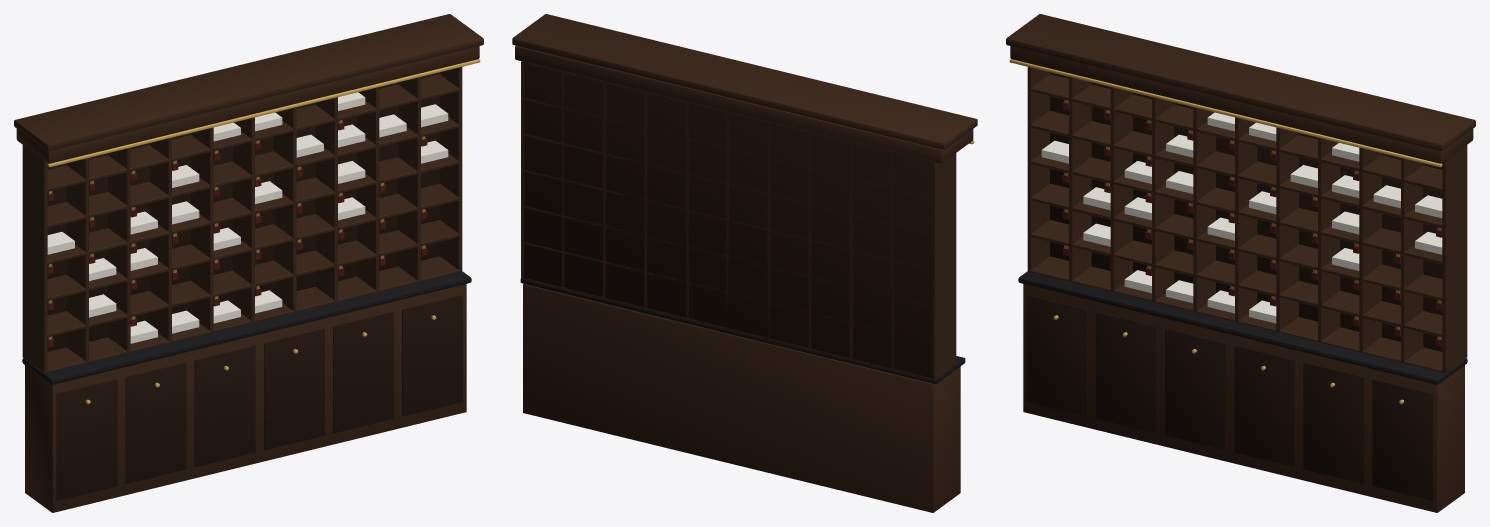
Rendered from key_cabinet.glb.
3 renders of one model, left to right at view 1: azimuth 30°, elevation 25°; view 2: azimuth 150°, elevation 25°; view 3: azimuth 330°, elevation 25°, orthographic.
Parts seen in each view (by area): view 1: key_cabinet; view 2: key_cabinet; view 3: key_cabinet.
Boxes of the visible parts, x1,y1,x2,y2 form: key_cabinet: [14, 14, 483, 512]; key_cabinet: [512, 14, 977, 512]; key_cabinet: [1006, 14, 1475, 512].
Bounding box in the file's own units: 3.16 × 2.6 × 0.43.
